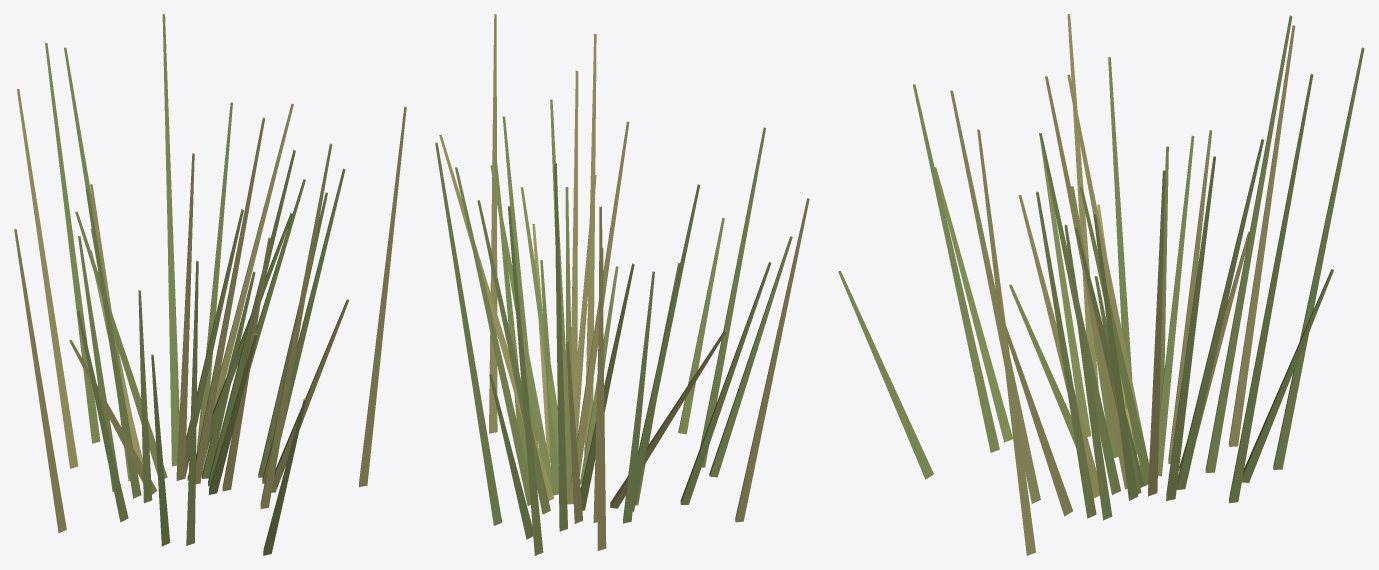
File: a3c_seagrass.glb
The picture shows the model from 3 angles, left to right: view 1: azimuth 30°, elevation 25°; view 2: azimuth 150°, elevation 25°; view 3: azimuth 270°, elevation 25°; orthographic projection. The views are drawn at different scales.
Parts seen in each view (by area): view 1: a3c_seagrass; view 2: a3c_seagrass; view 3: a3c_seagrass.
Boxes of the visible parts, x1,y1,x2,y2 form: a3c_seagrass: (14, 14, 406, 555); a3c_seagrass: (435, 14, 809, 555); a3c_seagrass: (838, 14, 1364, 555).
Bounding box in the file's own units: 1.01 × 1.09 × 1.18.
